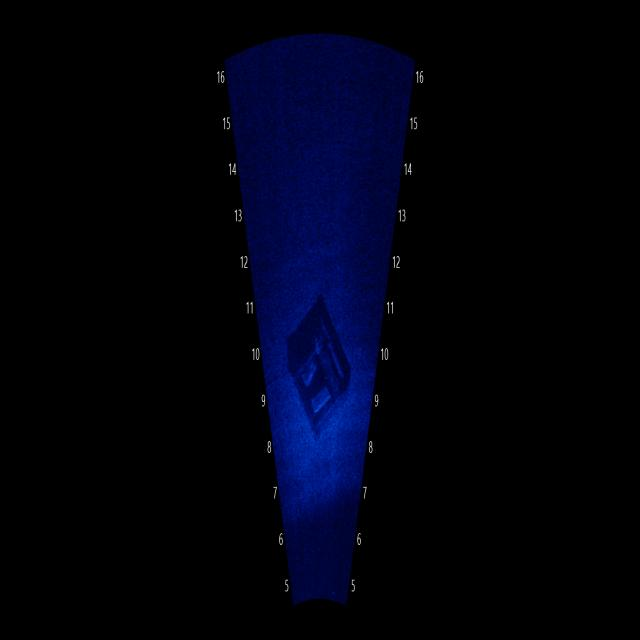square: (280, 287, 359, 440)
